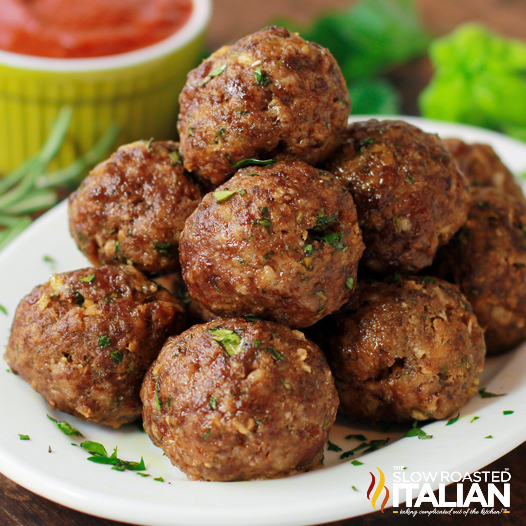meatballs: (141, 323, 339, 481), (183, 170, 362, 318), (21, 271, 174, 422), (339, 277, 484, 428), (190, 40, 344, 164), (342, 122, 460, 261), (69, 140, 197, 266), (459, 197, 526, 339)
